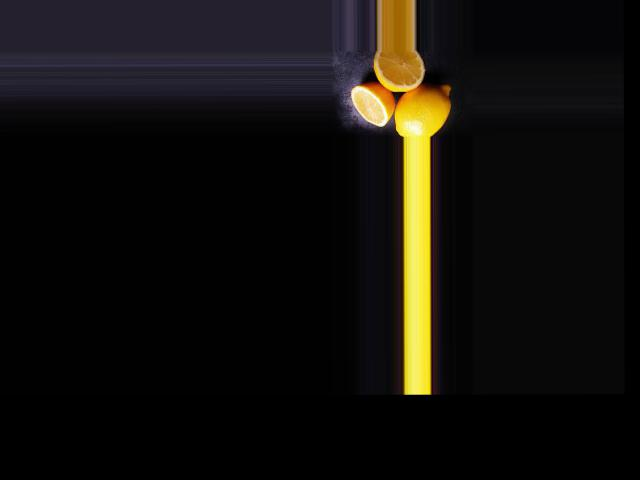lemon: (390, 84, 455, 135)
